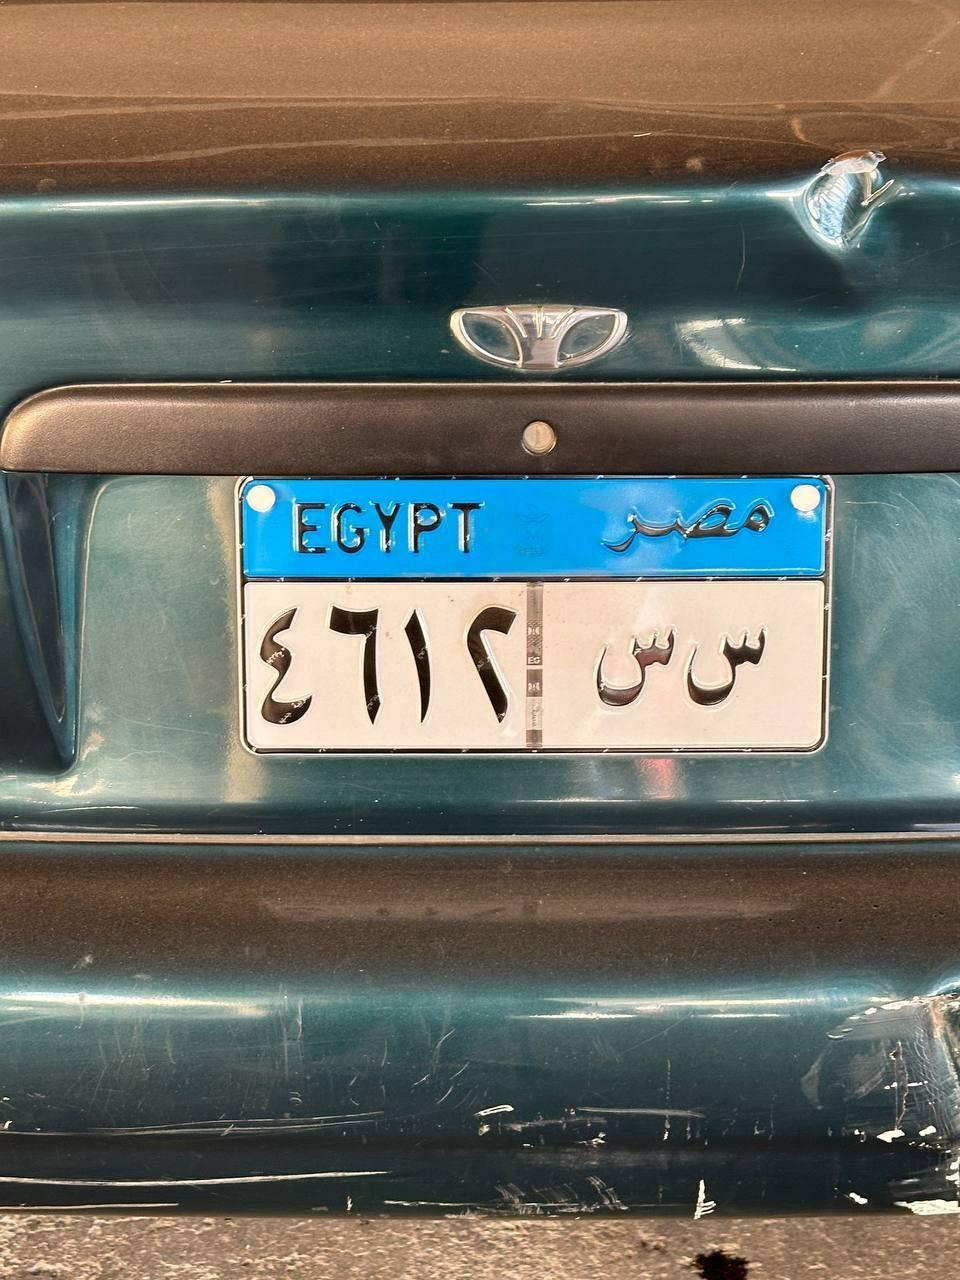1: (395, 610, 437, 729)
2: (464, 600, 516, 718)
4: (261, 607, 316, 732)
6: (320, 604, 392, 726)
License Plate: (233, 466, 835, 756)
Seen: (590, 628, 680, 716), (686, 624, 772, 714)
